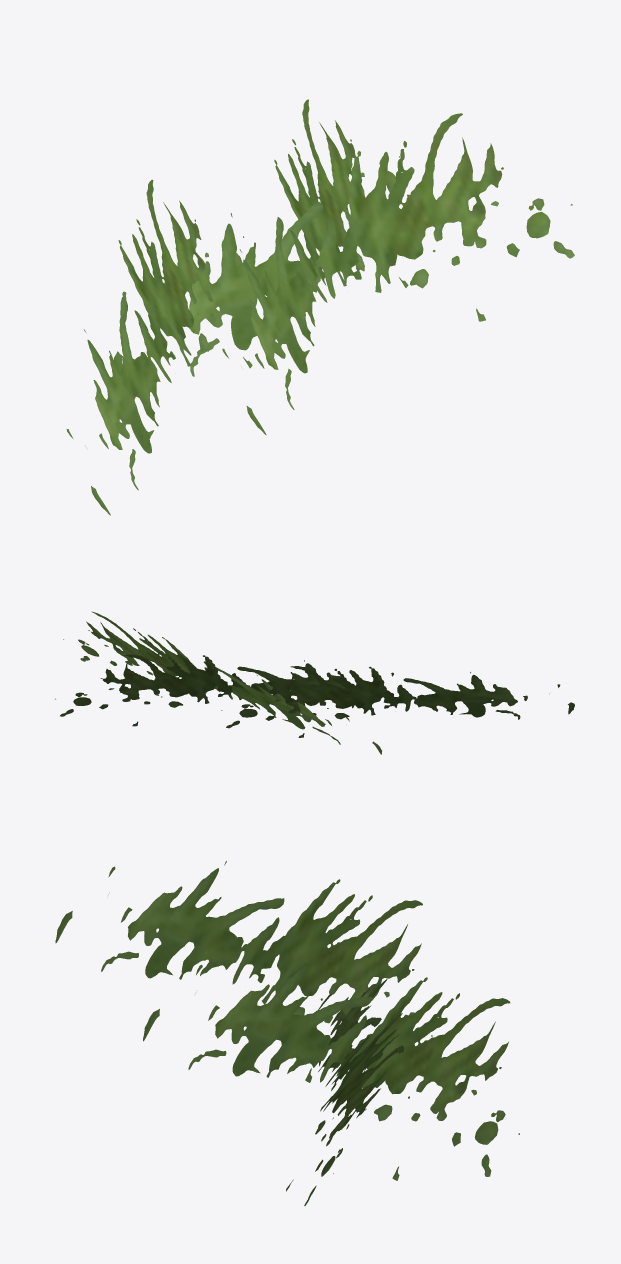
The picture shows the model from 3 angles, top to bottom: view 1: azimuth 30°, elevation 25°; view 2: azimuth 150°, elevation 25°; view 3: azimuth 270°, elevation 25°; orthographic projection. The views are drawn at different scales.
Visible parts, largest first — view 1: mesh_26; view 2: mesh_26; view 3: mesh_26.
Boxes of the visible parts, x1,y1,x2,y2 form: mesh_26: [66, 99, 574, 515]; mesh_26: [55, 611, 574, 754]; mesh_26: [55, 861, 519, 1205].
Bounding box in the file's own units: 1.36 × 0.3546 × 0.9908.
